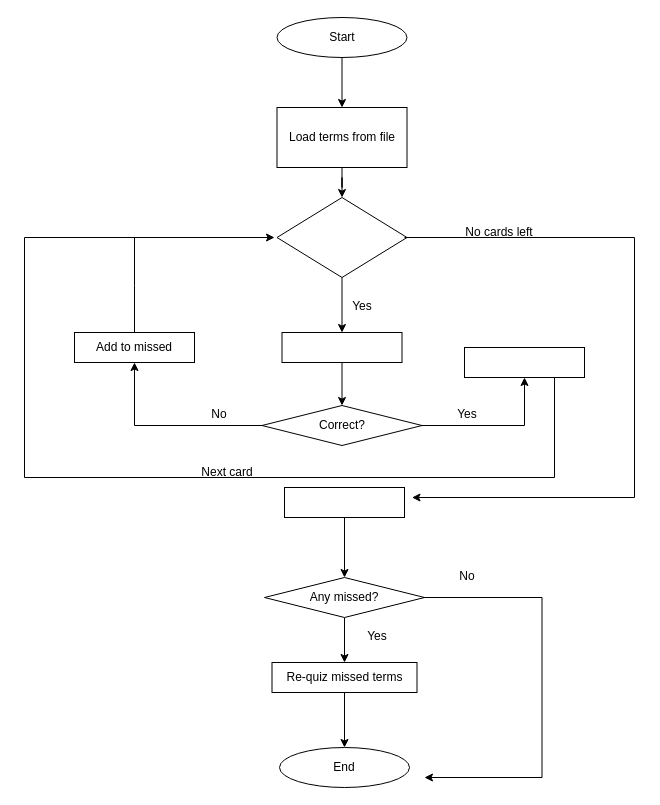
This 660x805 diagram has some shape labels left out. Here are the shapes that lost their labels. From the top down, the centre of each, then its label:
At point (341, 237): "More cards?".
At point (341, 347): "Show term, read answer".
At point (524, 362): "Score +1".
At point (344, 502): "show score".
